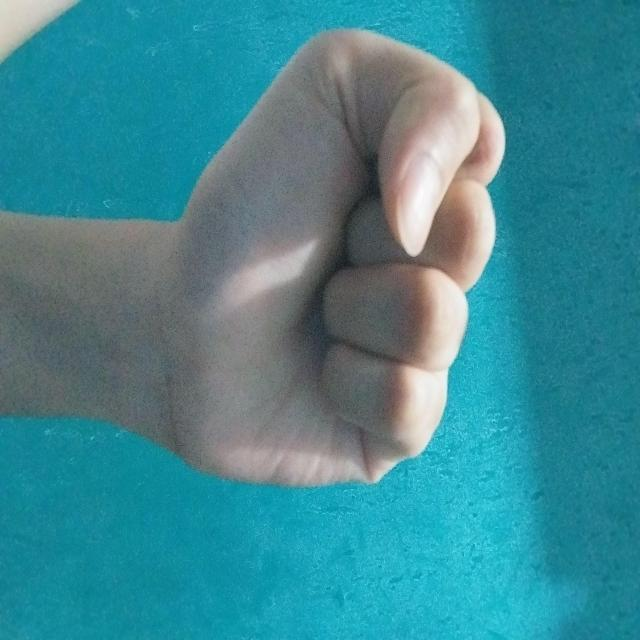S: (28, 133, 494, 478)
